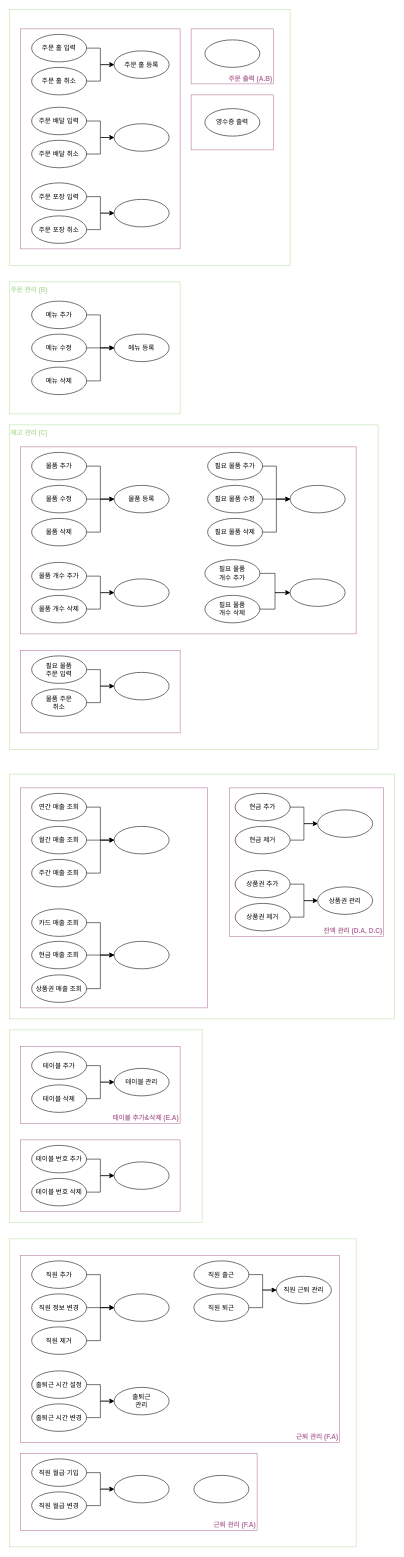
Some shapes in this 404 by 1557 pixel diagram are drawn without their labels. The box of each missing label's shape, as (x1, y1, x2, y2) in pixels:
기간 별 매출 조회: (114, 826, 169, 854)
매출 관리 (D): (9, 774, 395, 1019)
매출 출력 (D.A): (20, 787, 208, 1008)
물품 개수 수정: (114, 578, 169, 606)
물품 관리 (C.A): (20, 446, 356, 634)
물품 주문 관리 (C.B): (20, 650, 180, 733)
방식 별 매출 조회: (114, 941, 169, 969)
영수증 출력 (A.C): (191, 94, 274, 150)
주문 관리 (A): (9, 9, 290, 265)
주문 배달 등록: (114, 123, 169, 151)
주문 입력 (A.A): (20, 28, 180, 249)
주문 포장 등록: (114, 199, 169, 227)
주문서 출력: (204, 39, 260, 67)
직원 관리 (F): (9, 1238, 356, 1547)
직원 등록: (114, 1293, 169, 1321)
직원 월급 관리: (114, 1475, 169, 1503)
총 월급 조회: (193, 1475, 249, 1503)
테이블 관리 (E): (9, 1029, 202, 1222)
테이블 번호 관리: (114, 1161, 169, 1189)
테이블 번호 변경 (E.B): (20, 1139, 180, 1211)
필요 물품 개수 수정: (290, 578, 345, 606)
필요 물품 등록: (290, 485, 345, 513)
필요 물품 주문: (114, 672, 169, 700)
현금 관리: (317, 809, 373, 837)
